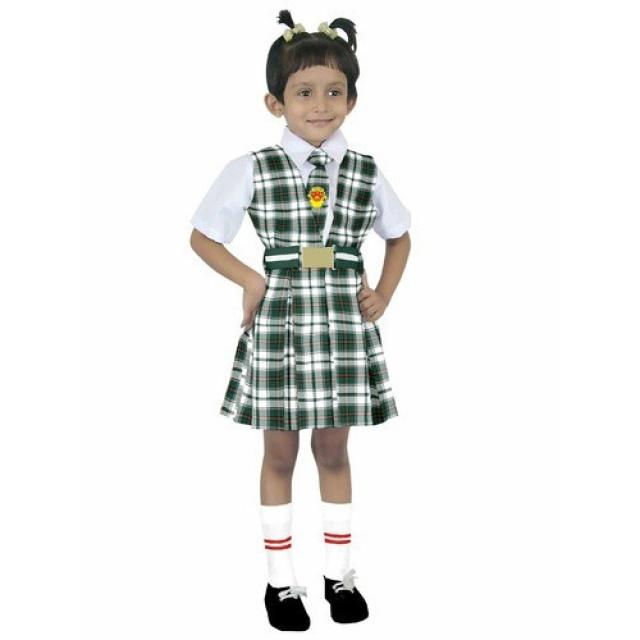child: (186, 8, 437, 638)
